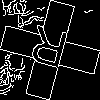R: (25, 25, 71, 78)
